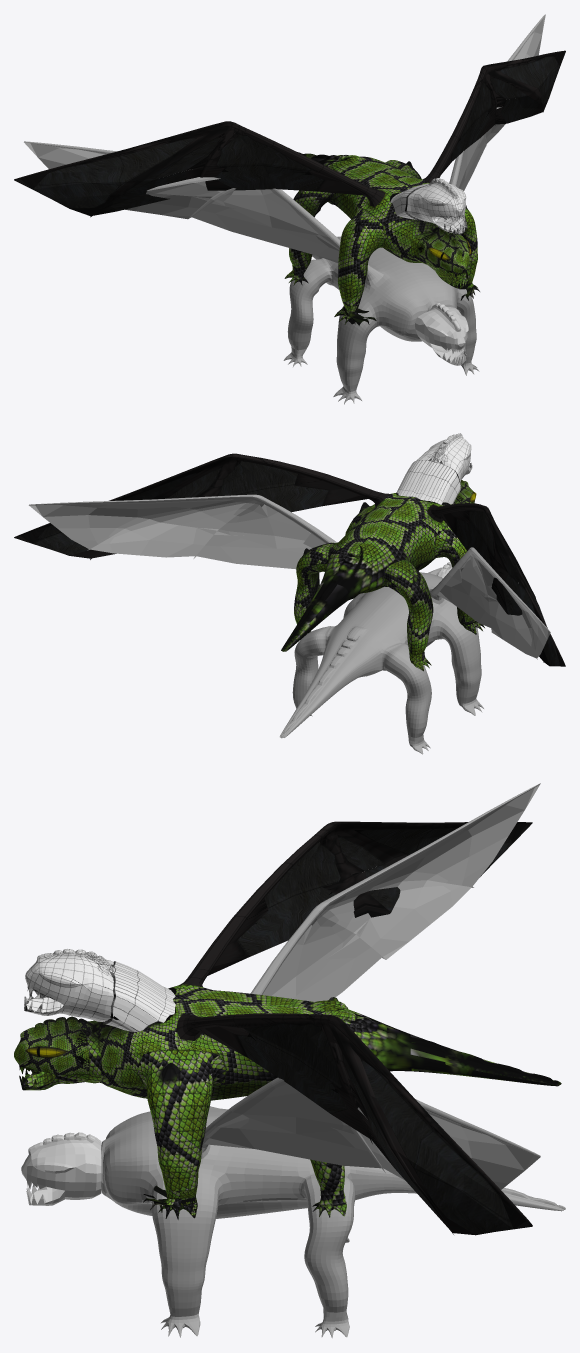
The model's file is monster_000029.obj.
3 views of the same model, one above another, from view 1: azimuth 30°, elevation 25°; view 2: azimuth 150°, elevation 25°; view 3: azimuth 270°, elevation 25° (orthographic). The views are drawn at different scales.
Parts seen in each view (by area): view 1: body_Cube, bodyCopy_Cube.003, secondHead_Cube.002, headcopy_Cube.006; view 2: bodyCopy_Cube.003, body_Cube, secondHead_Cube.002; view 3: body_Cube, bodyCopy_Cube.003, secondHead_Cube.002, headcopy_Cube.006.
Part boxes in pixels (left/top/right/bottom): body_Cube: left=14, top=50, right=565, bottom=325; bodyCopy_Cube.003: left=24, top=14, right=545, bottom=404; secondHead_Cube.002: left=390, top=178, right=467, bottom=234; headcopy_Cube.006: left=415, top=303, right=468, bottom=365; bodyCopy_Cube.003: left=29, top=494, right=550, bottom=754; body_Cube: left=14, top=453, right=565, bottom=671; secondHead_Cube.002: left=396, top=433, right=472, bottom=504; body_Cube: left=14, top=821, right=561, bottom=1235; bodyCopy_Cube.003: left=101, top=783, right=565, bottom=1338; secondHead_Cube.002: left=24, top=948, right=175, bottom=1031; headcopy_Cube.006: left=21, top=1132, right=101, bottom=1205.
Bounding box in the file's own units: 9.4 × 4.19 × 5.56.
